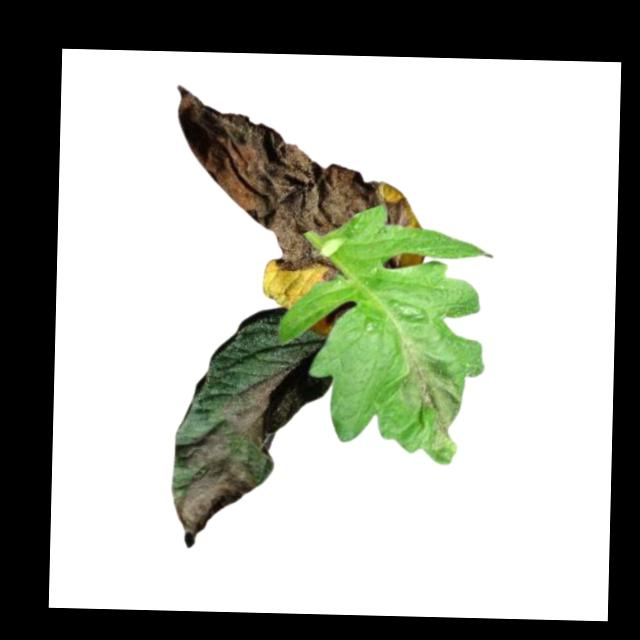Late_blight: (173, 89, 412, 280), (172, 433, 255, 553), (401, 344, 465, 453), (223, 364, 281, 444)
